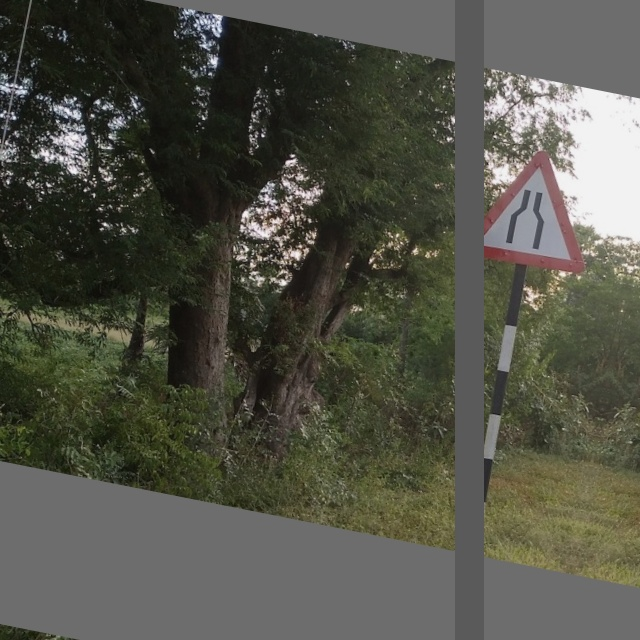Narrow_Road_Ahead: (458, 137, 608, 280)
